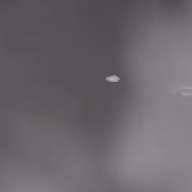Target: (106, 75, 120, 82)
